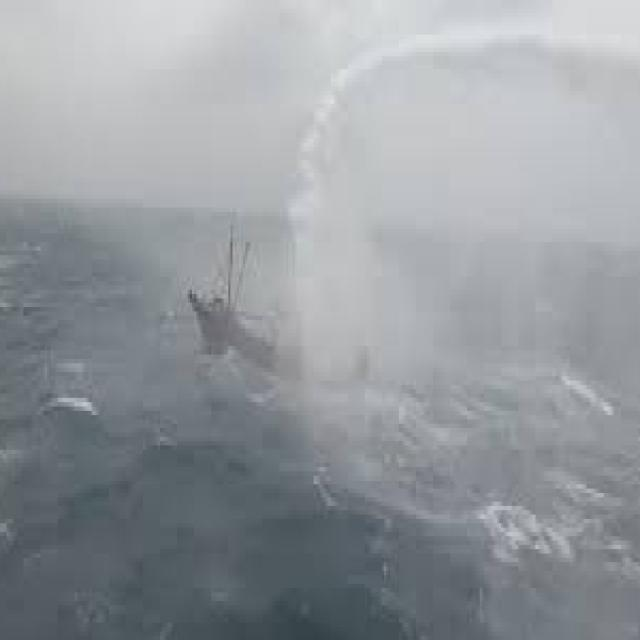fishing boat: (190, 237, 372, 402)
